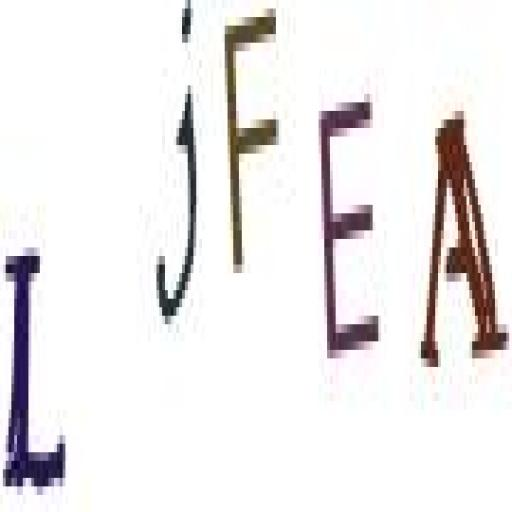A: (418, 103, 508, 382)
E: (317, 85, 388, 378)
F: (220, 8, 285, 290)
L: (2, 242, 71, 502)
j: (148, 0, 202, 333)
